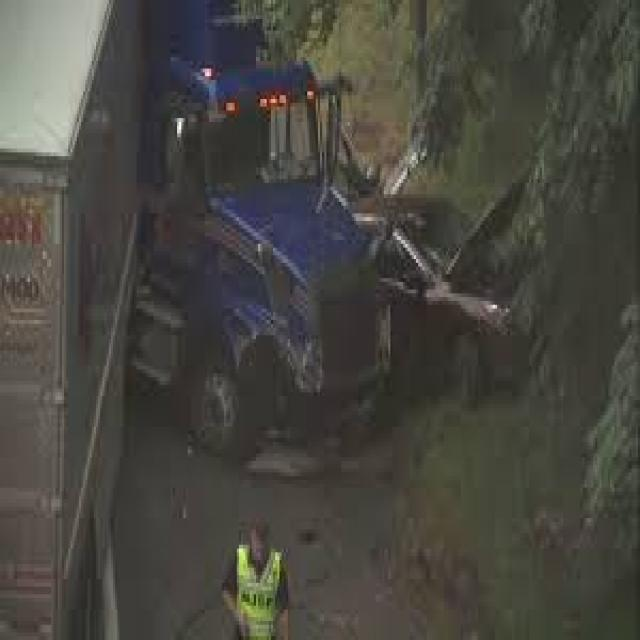accident: (141, 4, 568, 504)
